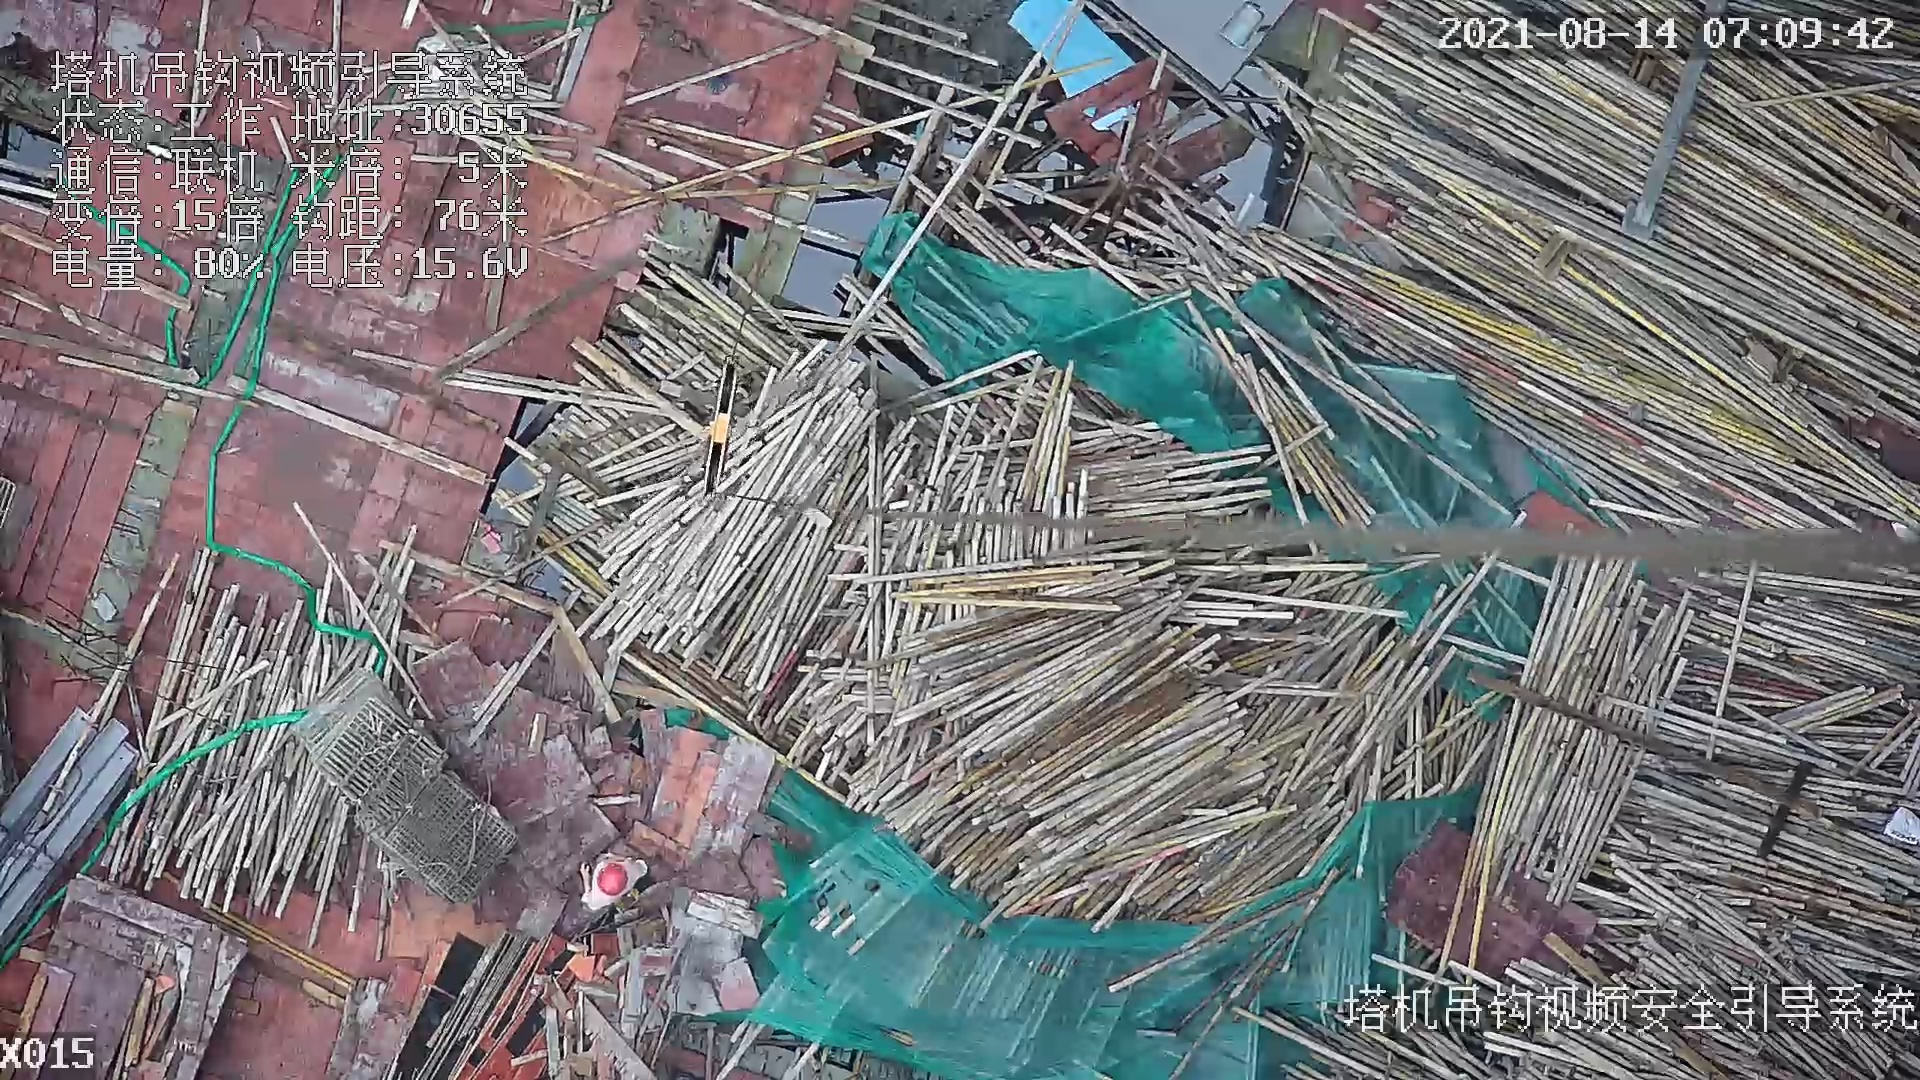helmet: (599, 863, 629, 896)
hook: (706, 354, 735, 503)
person: (581, 855, 655, 908)
